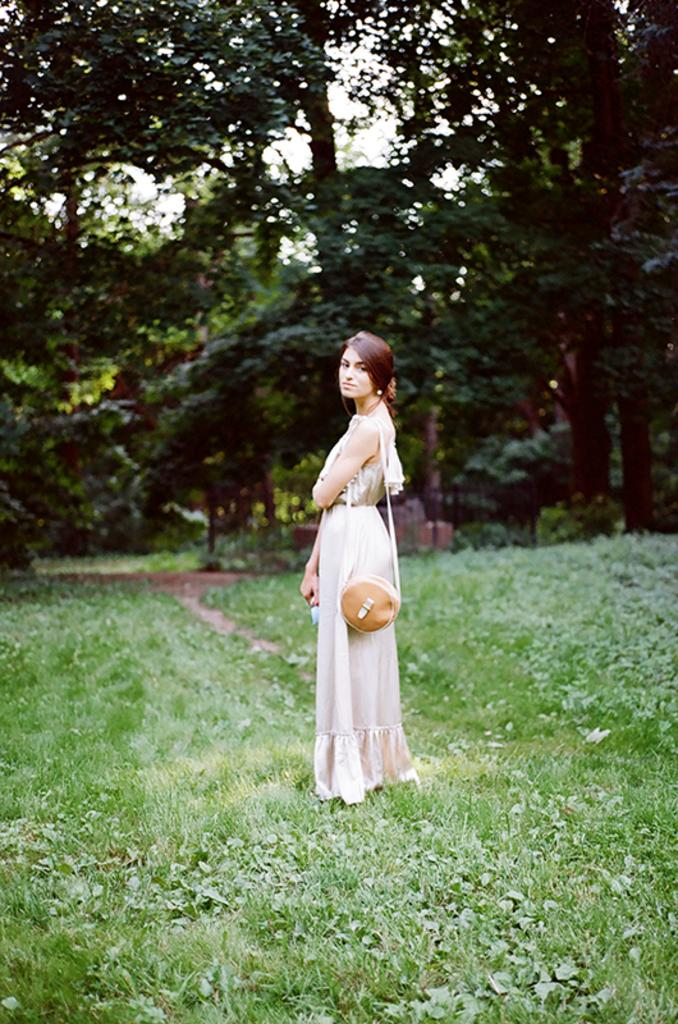Sem Máscara: (332, 345, 367, 391)
